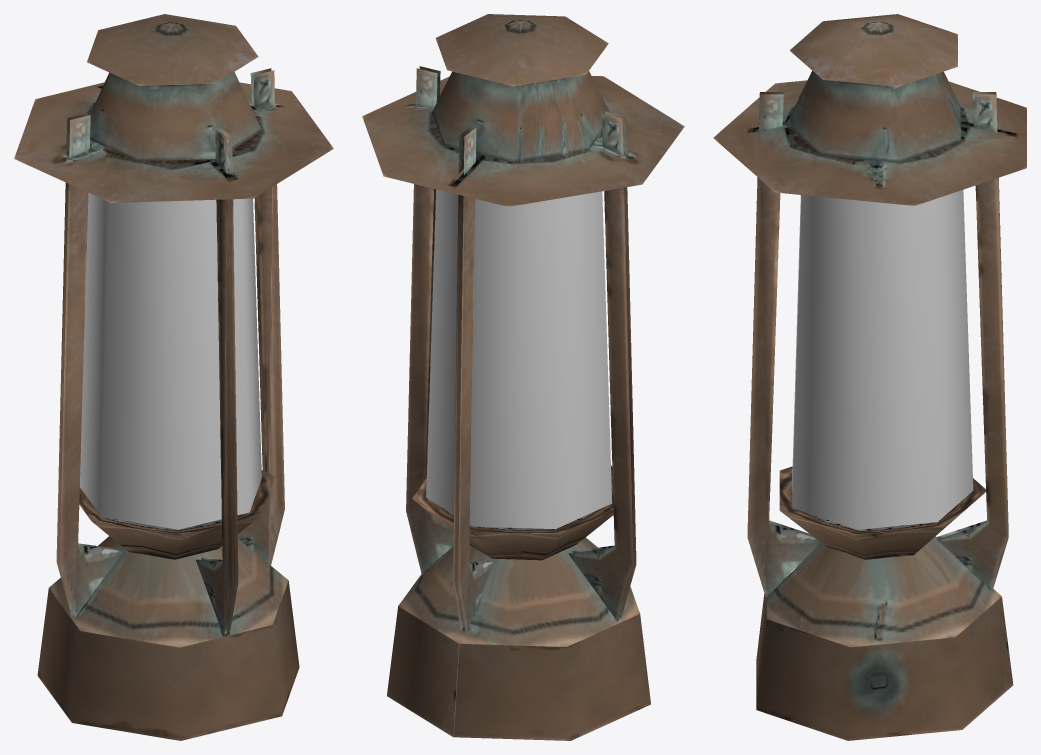
File: StormLantern_01_LOD3.fbx
3 views of the same model, side by side, from view 1: azimuth 30°, elevation 25°; view 2: azimuth 150°, elevation 25°; view 3: azimuth 270°, elevation 25° (orthographic).
Parts seen in each view (by area): view 1: StormLantern_01_LOD3; view 2: StormLantern_01_LOD3; view 3: StormLantern_01_LOD3.
Boxes of the visible parts, x1,y1,x2,y2 form: StormLantern_01_LOD3: (14, 14, 333, 740); StormLantern_01_LOD3: (362, 14, 684, 740); StormLantern_01_LOD3: (713, 14, 1026, 740).
Size of the model in its own units: 262 by 595 by 255.
